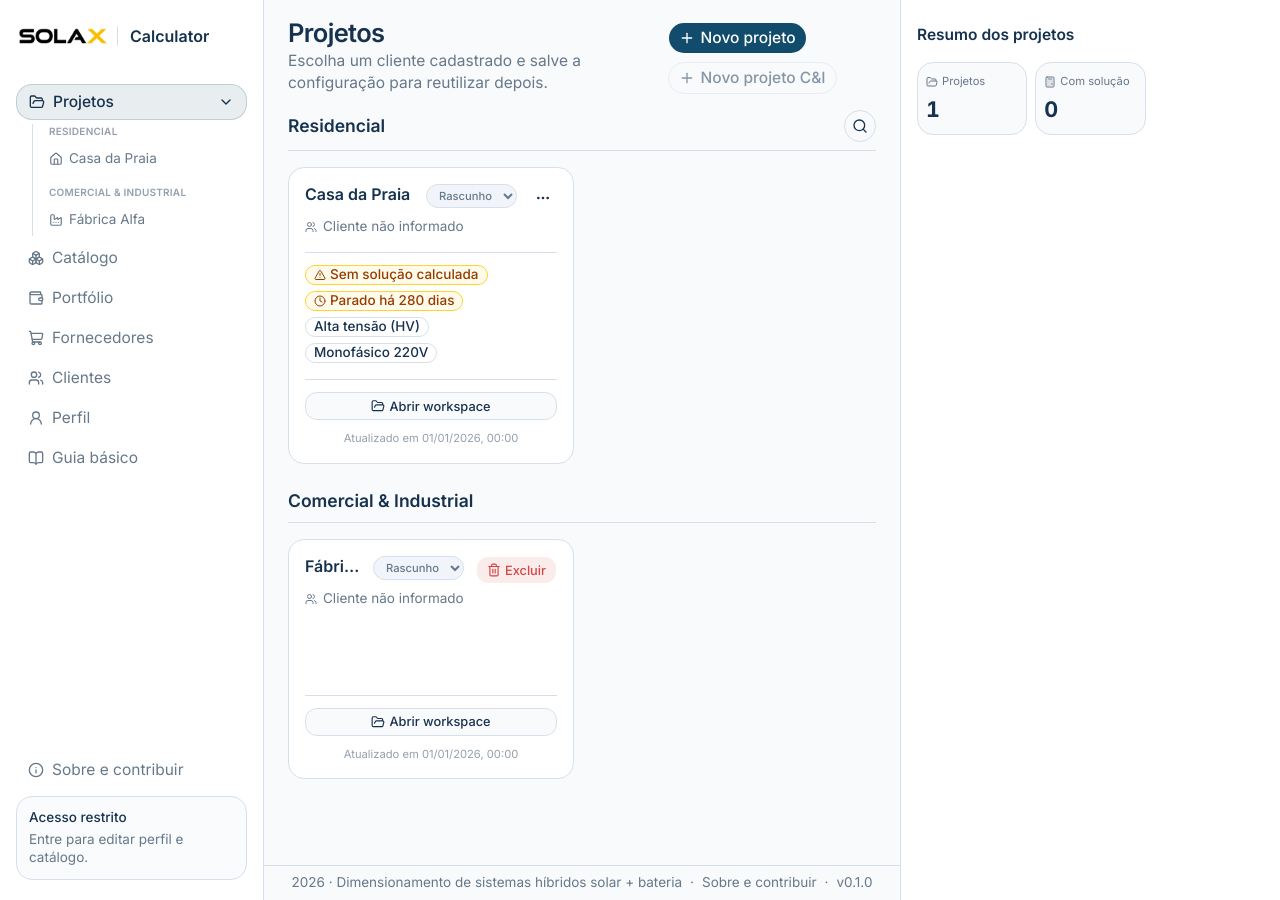
Test: SinglePageApp: initial load and navigation › opens the C&I workspace (not the residential one) when clicking a C&I project in the sidebar
This screenshot has width=1280, height=900.
Expected: the heading "Projetos" is shown, [288,17,384,48]
What coordinates should you click on to do the following:
click the button with aria-label "Abrir workspace Fábrica Alfa"
I would click on:
 (144, 220)
Its box is [41,204,247,236].
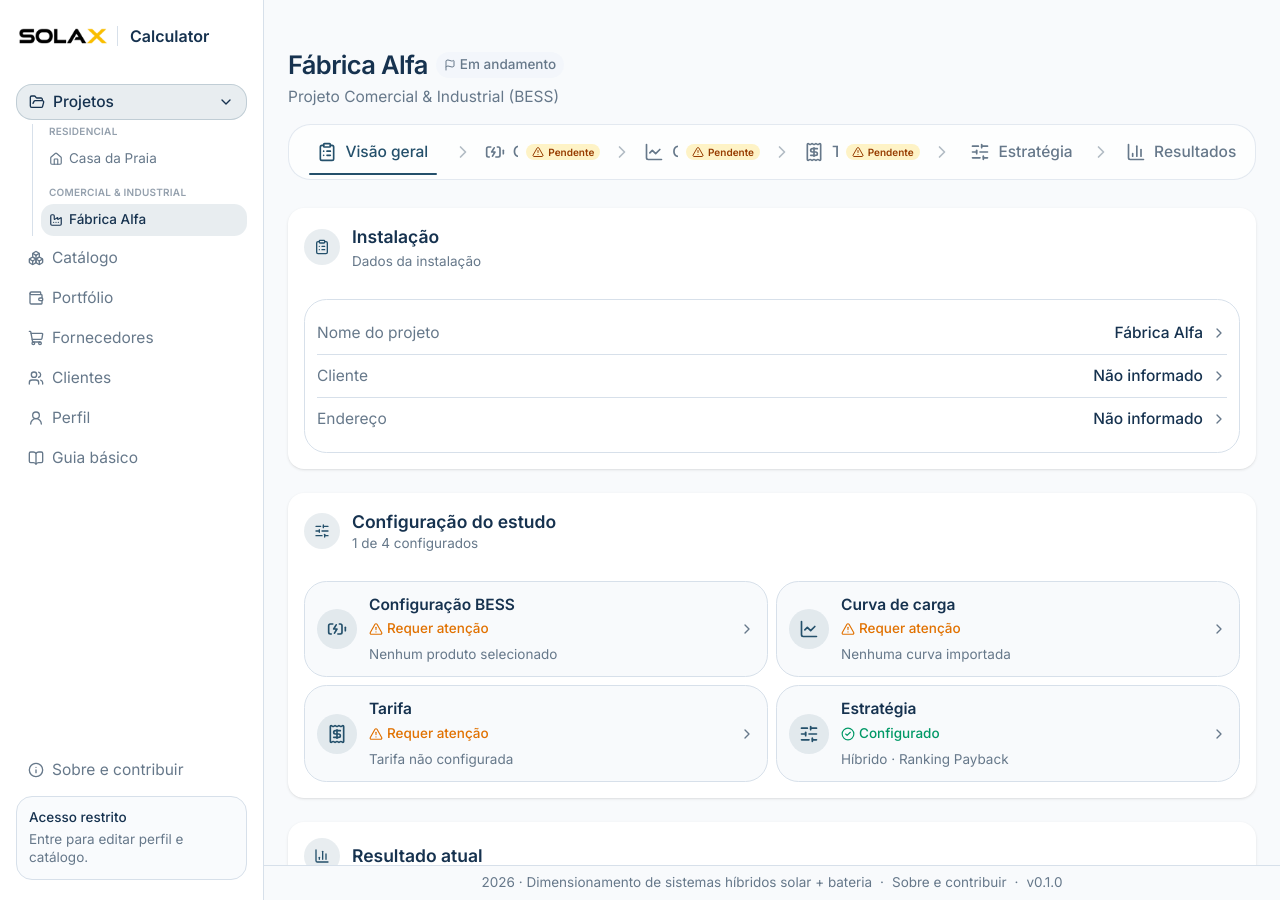
Expected: the heading "Fábrica Alfa" is shown, [288,48,428,82]
Expected: the text "Projeto Comercial & Industrial (BESS)" is shown, [288,87,559,106]
